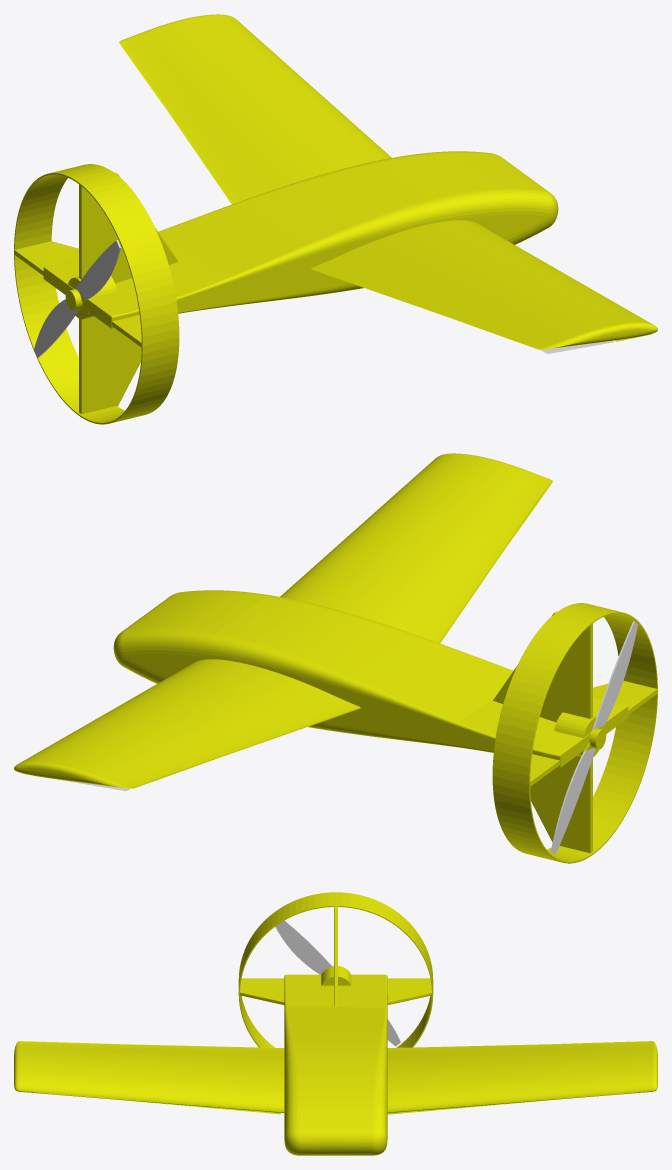
The model's file is Health Drone FBX.fbx.
3 views of the same model, one above another, from view 1: azimuth 30°, elevation 25°; view 2: azimuth 150°, elevation 25°; view 3: azimuth 270°, elevation 25° (orthographic). The views are drawn at different scales.
Visible parts, largest first — view 1: HealthDrone - Wings, HealthDrone - Body, HealthDrone - Tail, HealthDrone - Rotor; view 2: HealthDrone - Wings, HealthDrone - Body, HealthDrone - Tail, HealthDrone - Rotor; view 3: HealthDrone - Wings, HealthDrone - Body, HealthDrone - Tail, HealthDrone - Rotor.
Boxes of the visible parts, <box> form: HealthDrone - Wings: <box>119,14,657,349</box>; HealthDrone - Body: <box>43,151,558,328</box>; HealthDrone - Tail: <box>14,164,179,424</box>; HealthDrone - Rotor: <box>34,240,120,357</box>; HealthDrone - Wings: <box>14,453,552,788</box>; HealthDrone - Body: <box>113,590,628,767</box>; HealthDrone - Tail: <box>492,603,657,863</box>; HealthDrone - Rotor: <box>551,621,637,854</box>; HealthDrone - Wings: <box>14,1041,657,1112</box>; HealthDrone - Body: <box>283,974,388,1155</box>; HealthDrone - Tail: <box>238,892,433,1047</box>; HealthDrone - Rotor: <box>275,920,400,1046</box>.
Bounding box in the file's own units: 1.03 × 0.4983 × 1.65.
